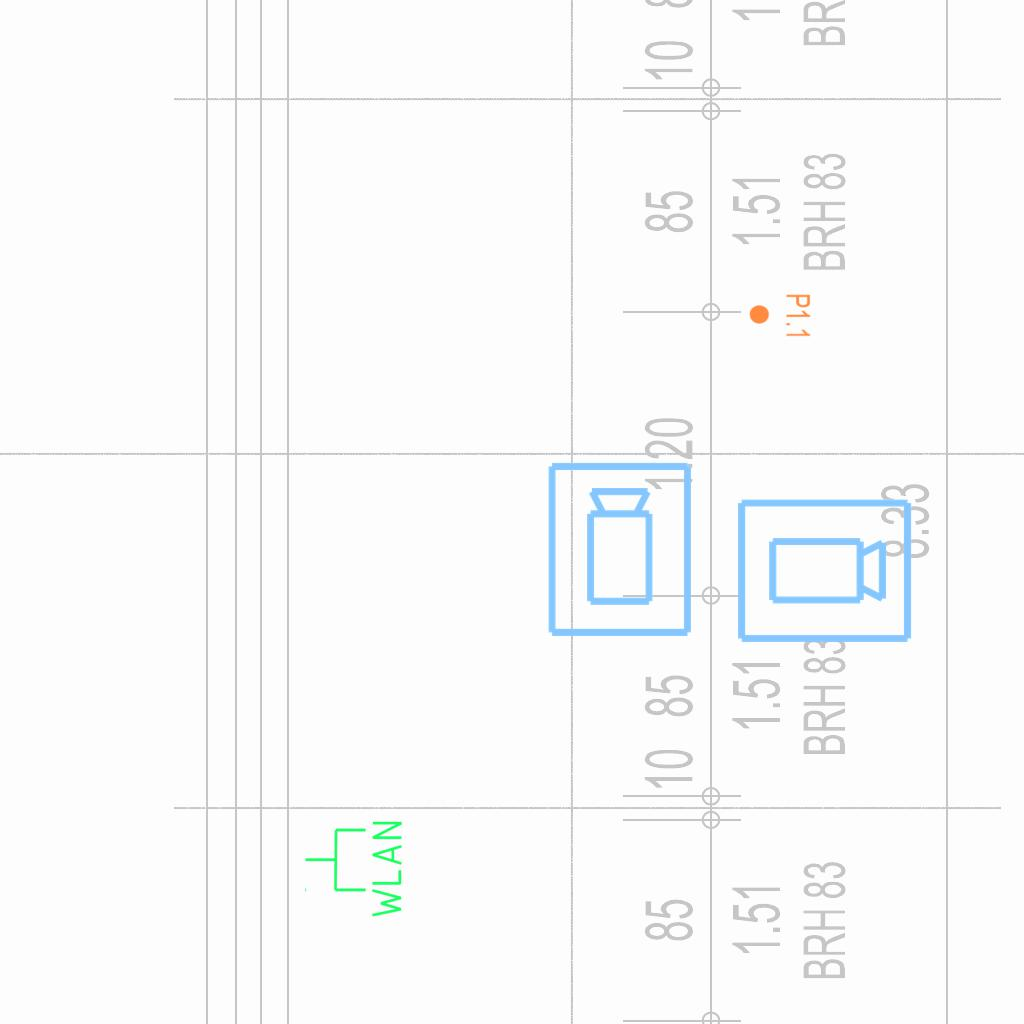Downlight_LED_Einbauleuchten_Flur: (748, 293, 812, 339)
KFO_Kamera_mit_Festobjektiv: (544, 459, 698, 641), (733, 495, 915, 649)
WLAN: (302, 817, 406, 922)
